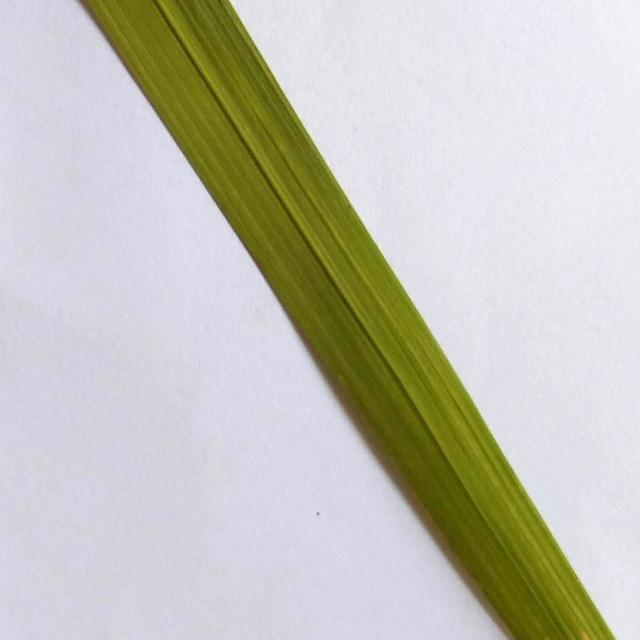Rice_Healthy: (85, 0, 615, 640)
